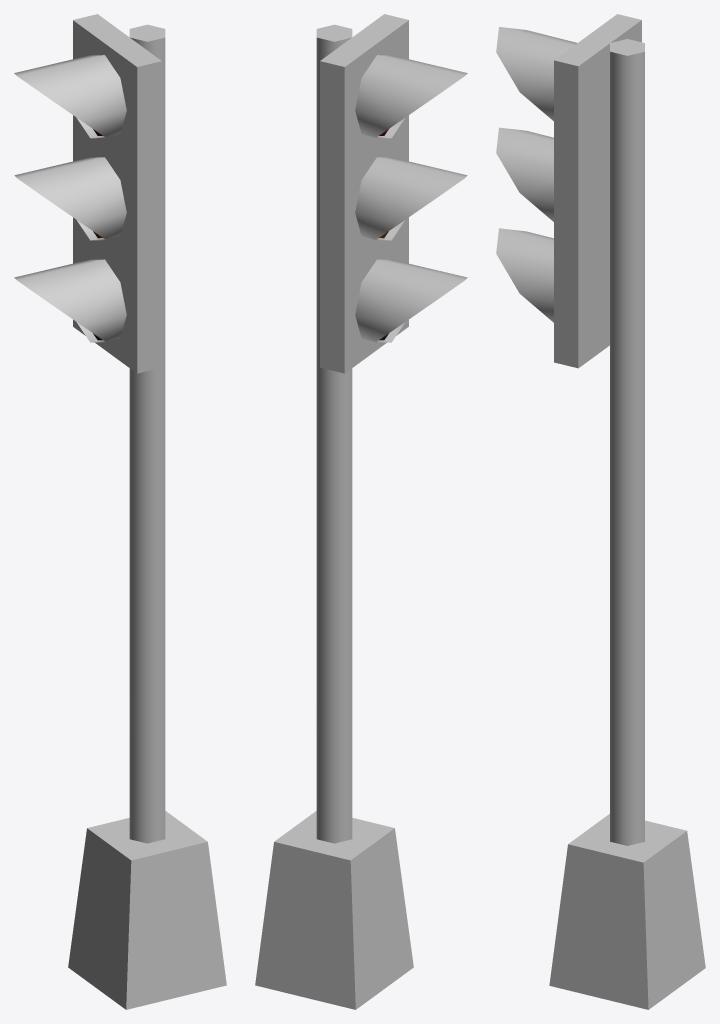
Rendered from trafficLight02.fbx.
3 renders of one model, left to right at view 1: azimuth 30°, elevation 25°; view 2: azimuth 150°, elevation 25°; view 3: azimuth 330°, elevation 25°, orthographic.
Parts seen in each view (by area): view 1: trafficLight02; view 2: trafficLight02; view 3: trafficLight02.
Part boxes in pixels (x1,y1,x2,y2): trafficLight02: (14,14,226,1009); trafficLight02: (255,14,467,1009); trafficLight02: (496,14,705,1009).
Size of the model in its own units: 80.25 by 400 by 49.44.
